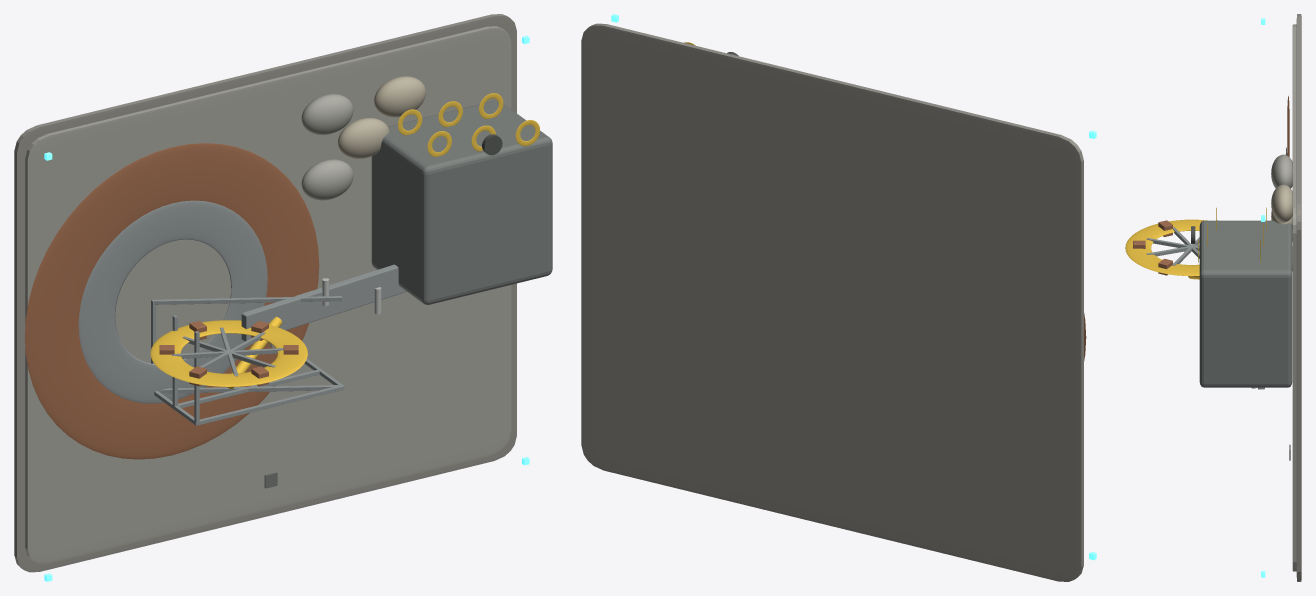
The model's file is b-50-mineral-quarry-lod2.glb.
3 renders of one model, left to right at view 1: azimuth 30°, elevation 25°; view 2: azimuth 150°, elevation 25°; view 3: azimuth 270°, elevation 25°, orthographic. The views are drawn at different scales.
Parts seen in each view (by area): view 1: foundation_inner_pad, quarry_terrace_outer, quarry_crusher_house_main_hall, foundation, quarry_terrace_inner, primary_bucket_wheel, mineral_stockpile_0, mineral_stockpile_6, mineral_stockpile_8, mineral_stockpile_4, primary_conveyor_bed_2, primary_conveyor_bed_1 (+5 smaller); view 2: foundation; view 3: quarry_crusher_house_main_hall, foundation, foundation_inner_pad, primary_bucket_wheel, mineral_stockpile_8, mineral_stockpile_6.
Boxes of the visible parts, left/top/right/bottom form: foundation_inner_pad: left=25, top=26, right=511, bottom=563; quarry_terrace_outer: left=24, top=143, right=319, bottom=459; quarry_crusher_house_main_hall: left=371, top=100, right=552, bottom=304; foundation: left=14, top=14, right=516, bottom=572; quarry_terrace_inner: left=78, top=200, right=267, bottom=403; primary_bucket_wheel: left=150, top=320, right=307, bottom=386; mineral_stockpile_0: left=301, top=159, right=353, bottom=200; mineral_stockpile_6: left=301, top=94, right=353, bottom=134; mineral_stockpile_8: left=374, top=76, right=425, bottom=117; mineral_stockpile_4: left=338, top=118, right=389, bottom=158; primary_conveyor_bed_2: left=347, top=264, right=404, bottom=308; primary_conveyor_bed_1: left=295, top=280, right=352, bottom=325; foundation: left=581, top=23, right=1083, bottom=581; quarry_crusher_house_main_hall: left=1199, top=220, right=1292, bottom=387; foundation: left=1296, top=14, right=1301, bottom=581; foundation_inner_pad: left=1292, top=24, right=1296, bottom=571; primary_bucket_wheel: left=1125, top=219, right=1207, bottom=276; mineral_stockpile_8: left=1271, top=184, right=1292, bottom=222; mineral_stockpile_6: left=1271, top=154, right=1292, bottom=188.
Size of what is drawn, in the model's own units: 20 by 17 by 7.23.
